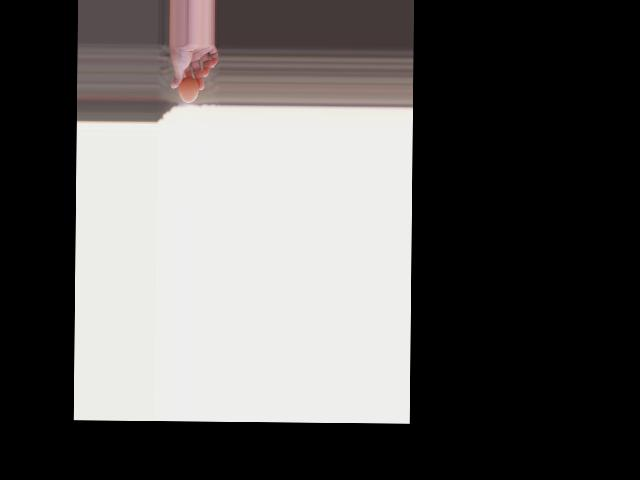egg: (178, 77, 199, 102)
